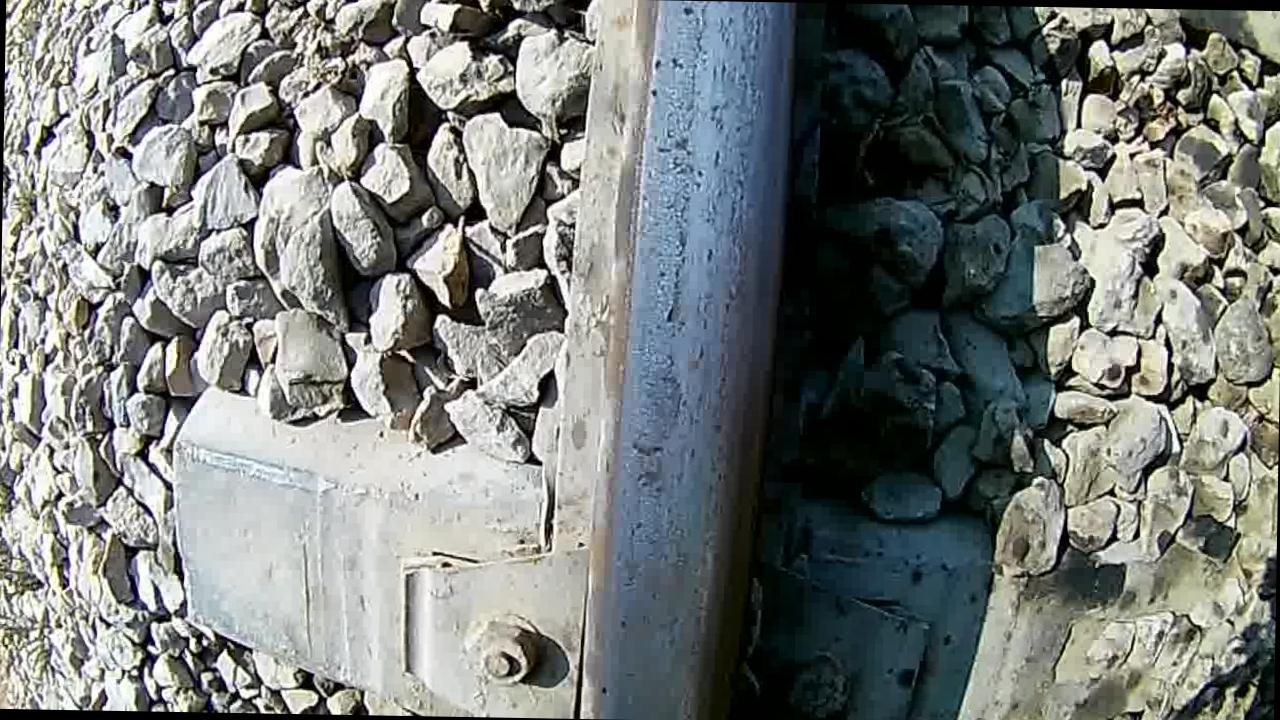crack: (592, 0, 787, 717)
